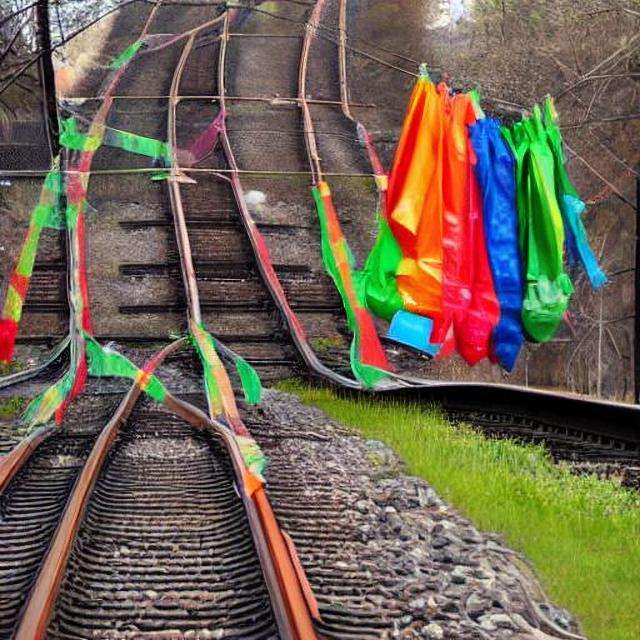floating object: (310, 84, 606, 385)
